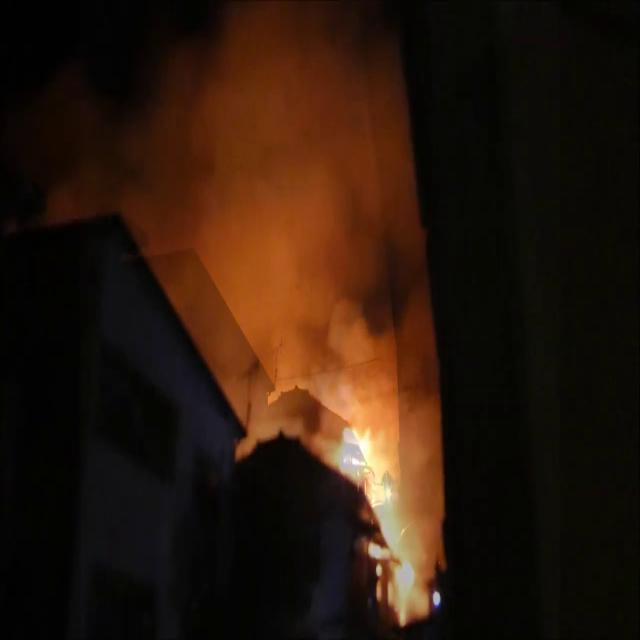Fire: (338, 402, 427, 619)
Smoke: (115, 4, 432, 427)
